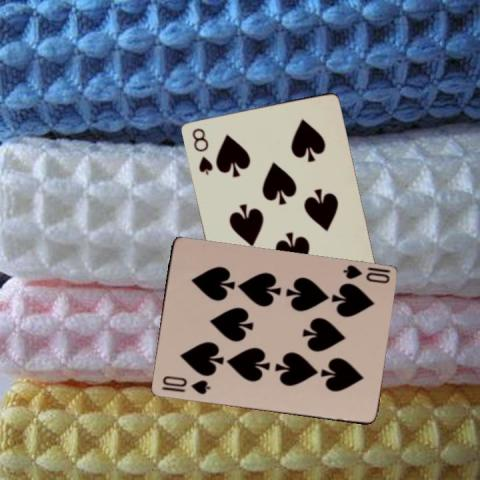10s: (158, 373, 211, 396), (339, 262, 391, 285)
8s: (189, 125, 214, 176)
